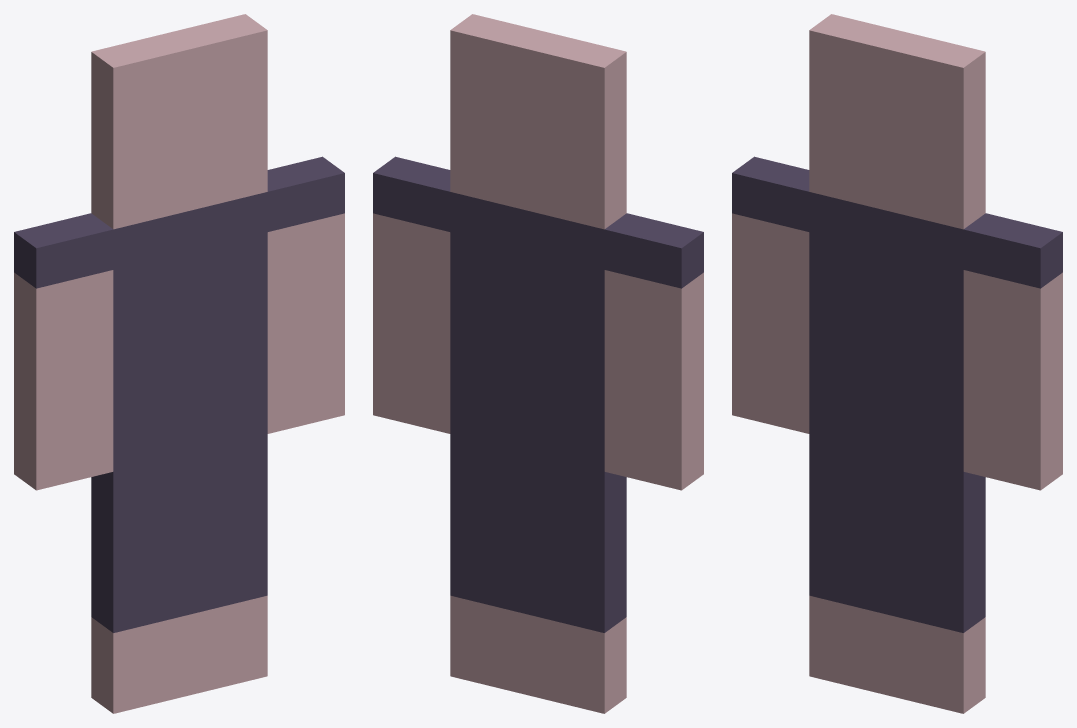
File: human.glb
3 renders of one model, left to right at view 1: azimuth 30°, elevation 25°; view 2: azimuth 150°, elevation 25°; view 3: azimuth 330°, elevation 25°, orthographic.
Visible parts, largest first — view 1: torso, head, arm_l, leg_l, arm_r, leg_r; view 2: torso, head, arm_l, leg_l, arm_r, leg_r; view 3: torso, head, arm_r, leg_r, arm_l, leg_l.
Part boxes in pixels (left/top/right/bottom): torso: left=113, top=192, right=267, bottom=471; head: left=91, top=14, right=267, bottom=229; arm_l: left=14, top=213, right=113, bottom=490; leg_l: left=91, top=453, right=190, bottom=713; arm_r: left=267, top=156, right=344, bottom=433; leg_r: left=190, top=434, right=267, bottom=694; torso: left=450, top=192, right=604, bottom=471; head: left=450, top=14, right=626, bottom=229; arm_l: left=604, top=213, right=703, bottom=490; leg_l: left=527, top=453, right=626, bottom=713; arm_r: left=373, top=156, right=450, bottom=433; leg_r: left=450, top=434, right=527, bottom=694; torso: left=809, top=192, right=963, bottom=471; head: left=809, top=14, right=985, bottom=229; arm_r: left=963, top=213, right=1062, bottom=490; leg_r: left=886, top=453, right=985, bottom=713; arm_l: left=732, top=156, right=809, bottom=433; leg_l: left=809, top=434, right=886, bottom=694.
Bounding box in the file's own units: 8 × 16 × 1.
